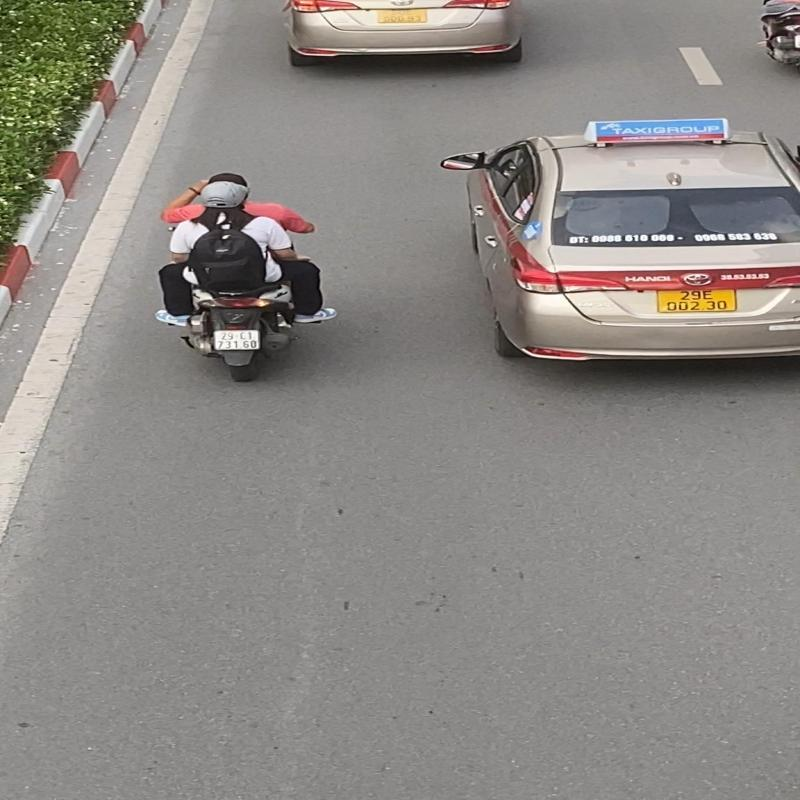helmet: (198, 181, 250, 207)
licenseplate: (211, 328, 264, 352)
motorcyclist: (156, 170, 338, 384)
